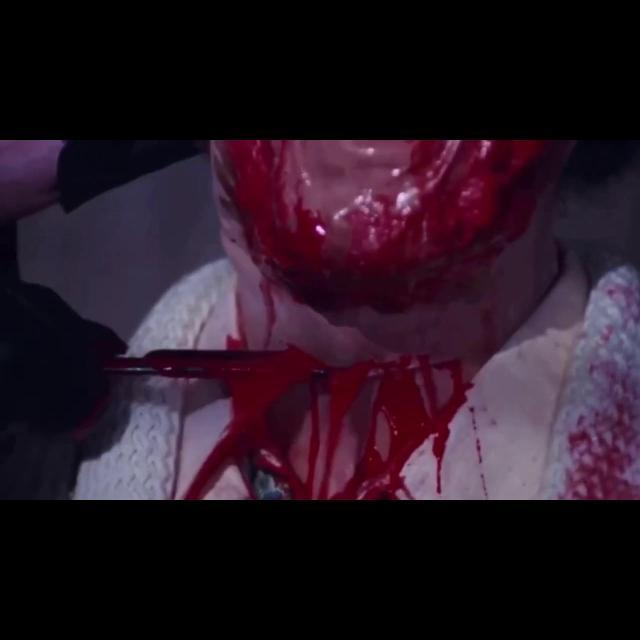blood: (108, 140, 573, 500), (550, 260, 640, 498)
